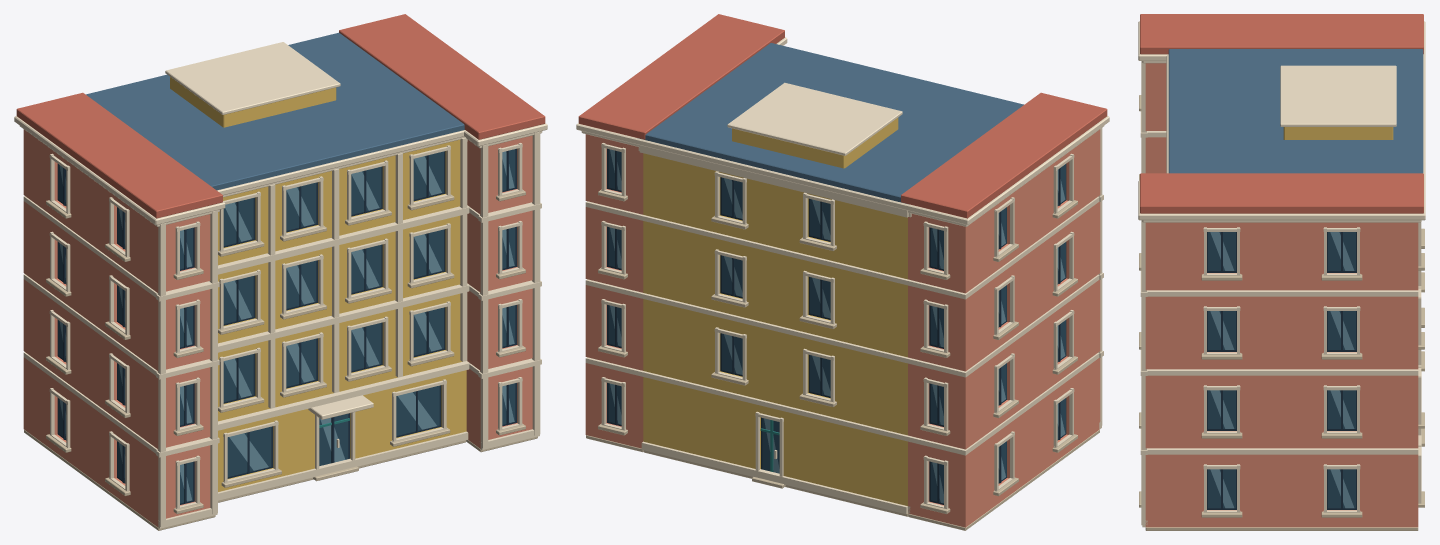
The model's file is twin_stair_apartments.glb.
3 renders of one model, left to right at view 1: azimuth 30°, elevation 25°; view 2: azimuth 150°, elevation 25°; view 3: azimuth 270°, elevation 25°, orthographic.
Parts seen in each view (by area): view 1: TwinStairApartments_StaticMesh; view 2: TwinStairApartments_StaticMesh; view 3: TwinStairApartments_StaticMesh.
Part boxes in pixels (x1,y1,x2,y2): TwinStairApartments_StaticMesh: (14, 14, 547, 530); TwinStairApartments_StaticMesh: (576, 14, 1109, 530); TwinStairApartments_StaticMesh: (1138, 14, 1425, 530).
Size of the model in its own units: 16.32 by 13.44 by 10.22.
